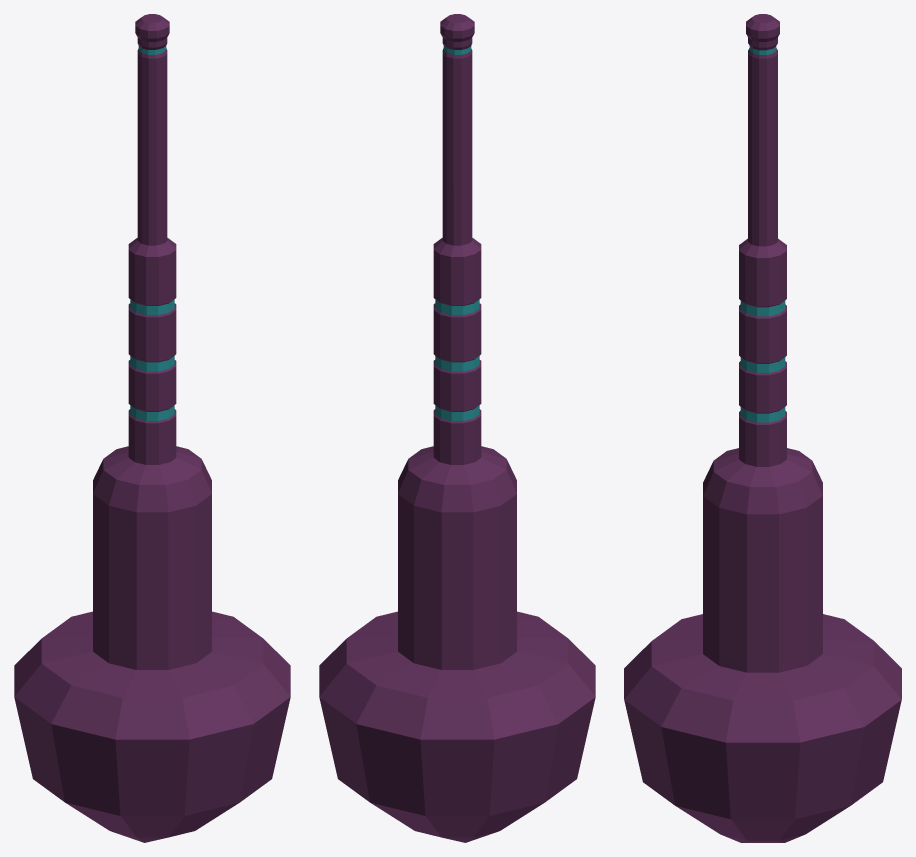
File: Antenna3.fbx
3 renders of one model, left to right at view 1: azimuth 30°, elevation 25°; view 2: azimuth 150°, elevation 25°; view 3: azimuth 270°, elevation 25°, orthographic.
Parts seen in each view (by area): view 1: Antenna3; view 2: Antenna3; view 3: Antenna3.
Boxes of the visible parts, <box> form: Antenna3: <box>14,14,290,842</box>; Antenna3: <box>319,14,595,842</box>; Antenna3: <box>624,14,901,842</box>.
Bounding box in the file's own units: 78.93 × 256 × 78.93.
